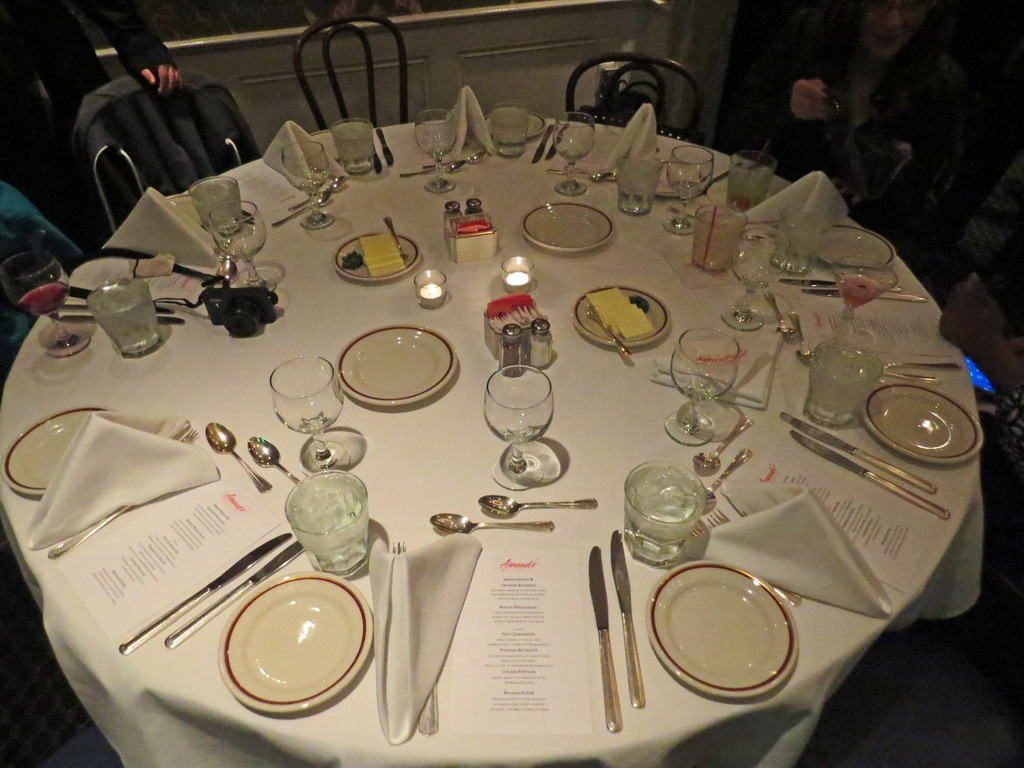plate: (637, 554, 818, 701), (220, 568, 378, 712), (336, 311, 465, 410), (862, 370, 989, 469), (518, 196, 617, 261), (569, 284, 675, 341), (812, 225, 901, 284)
